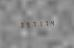four: (48, 19, 53, 26)
nine: (23, 20, 28, 28)
one: (36, 20, 41, 27)
seven: (30, 20, 35, 28), (42, 19, 47, 27)
three: (17, 21, 22, 28)
